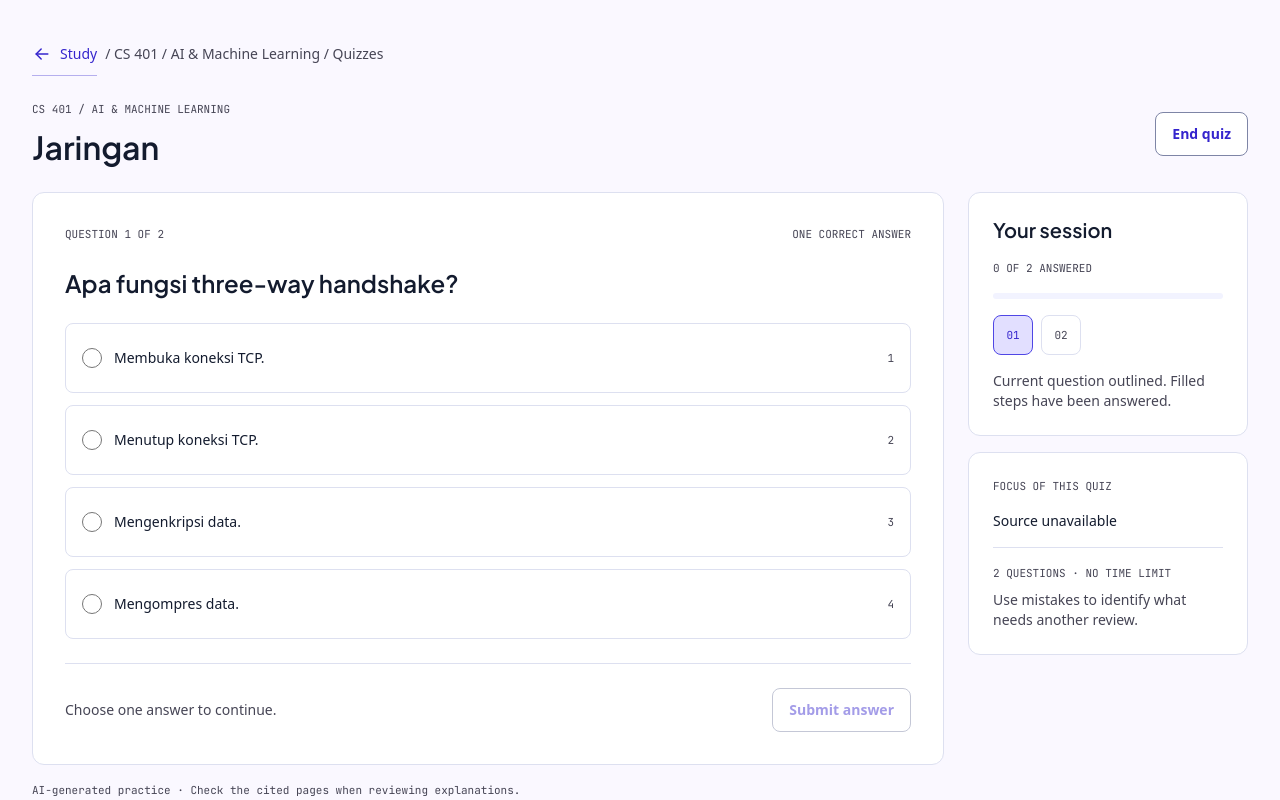
Test case: grading, per question kind › renders the score the server reported rather than recomputing it
Click the radio button labelled "Membuka koneksi TCP. 1" at [92, 358], box 82,348 -> 102,368
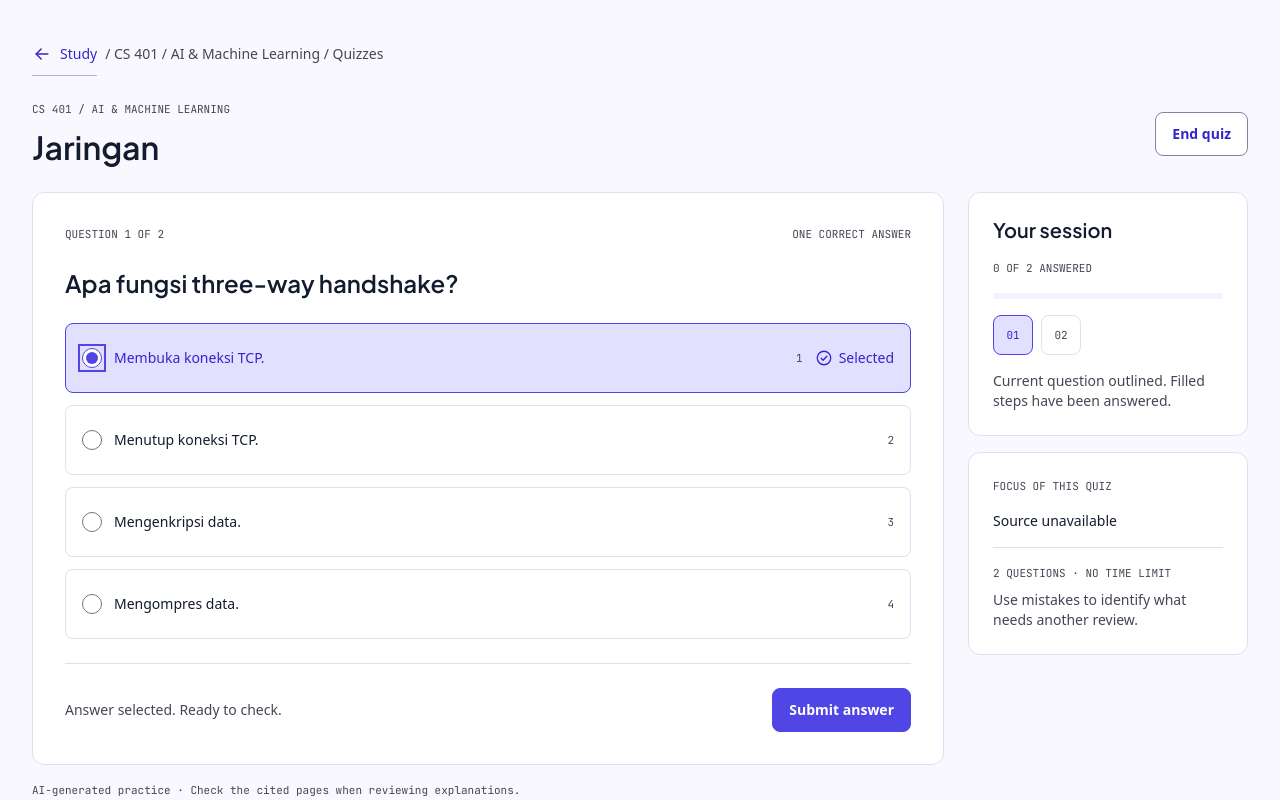
Click the button "Submit answer" at [842, 710], box 772,688 -> 911,732
(page scrolled)
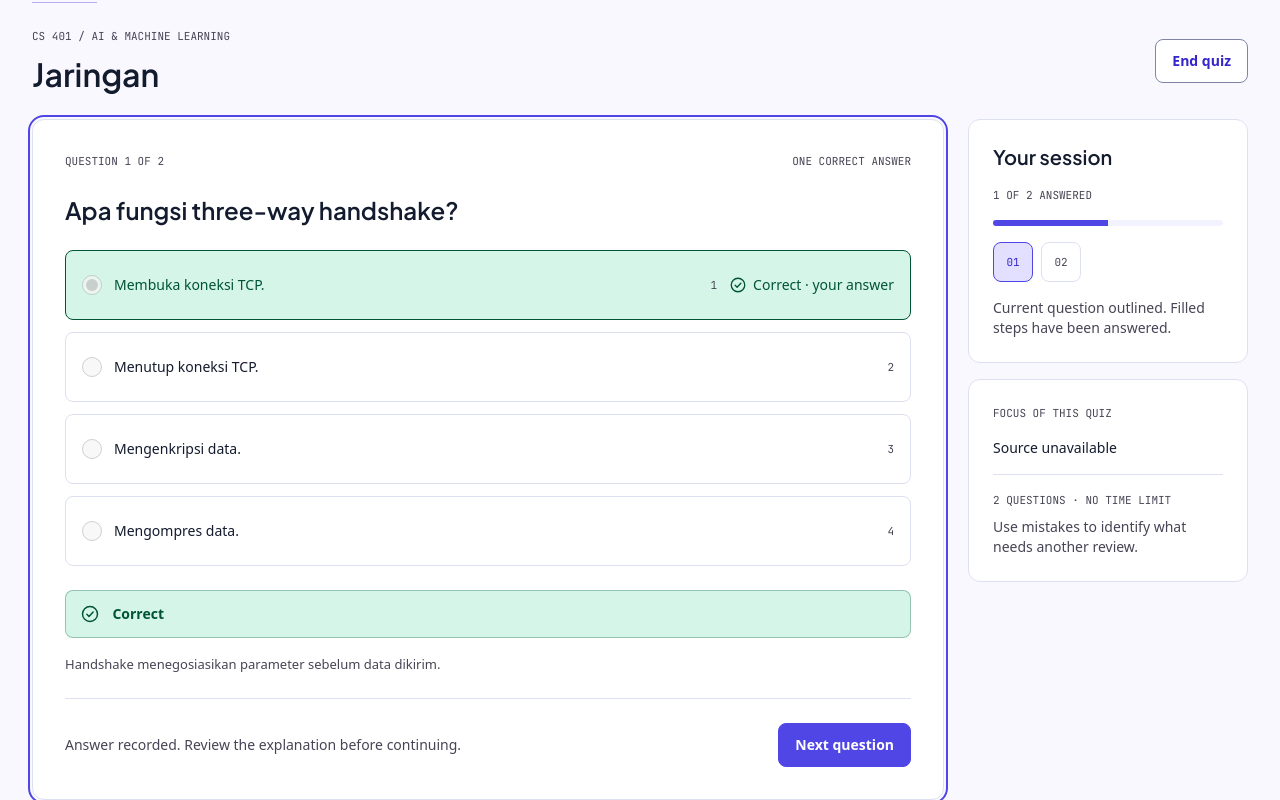
Click the button "Next question" at [845, 745], box 778,723 -> 911,767
(page scrolled)
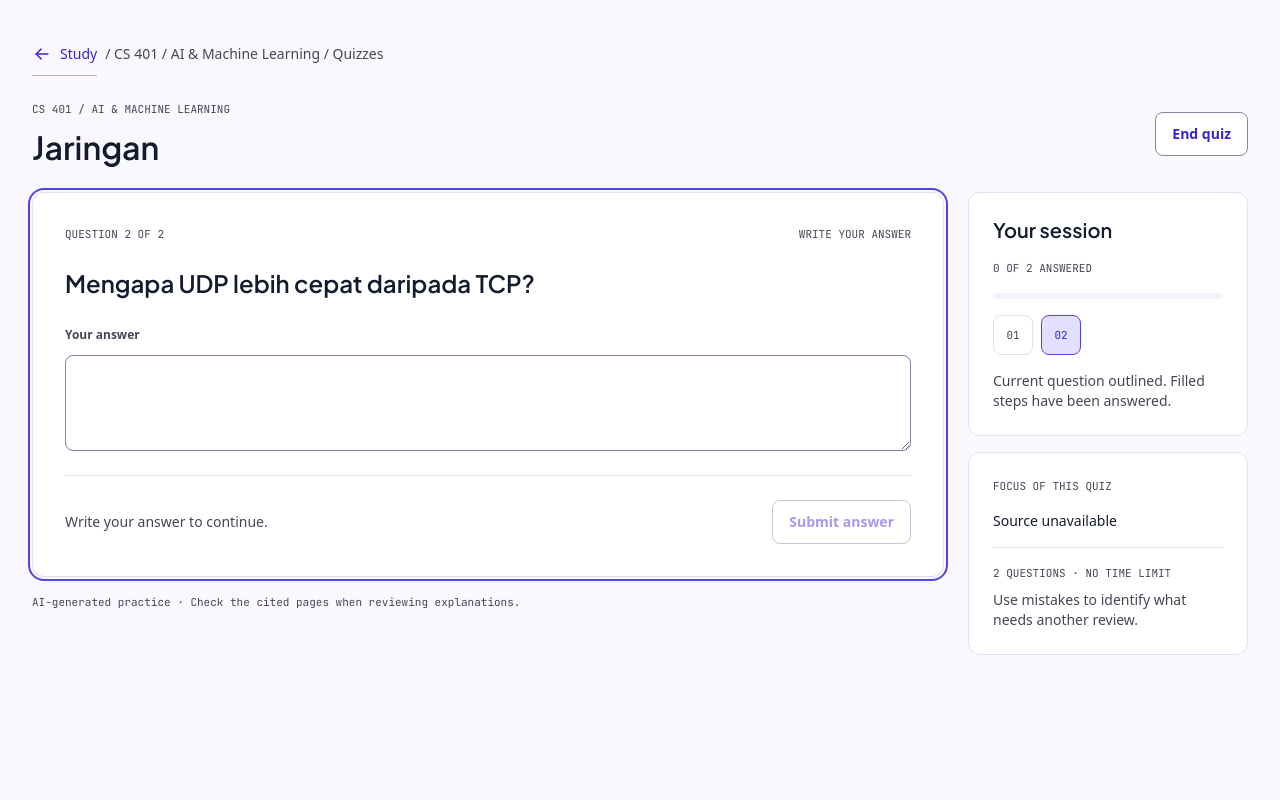
Type "Karena tidak ada handshake." into the text box labelled "Your answer" at [488, 403], box 65,355 -> 911,451
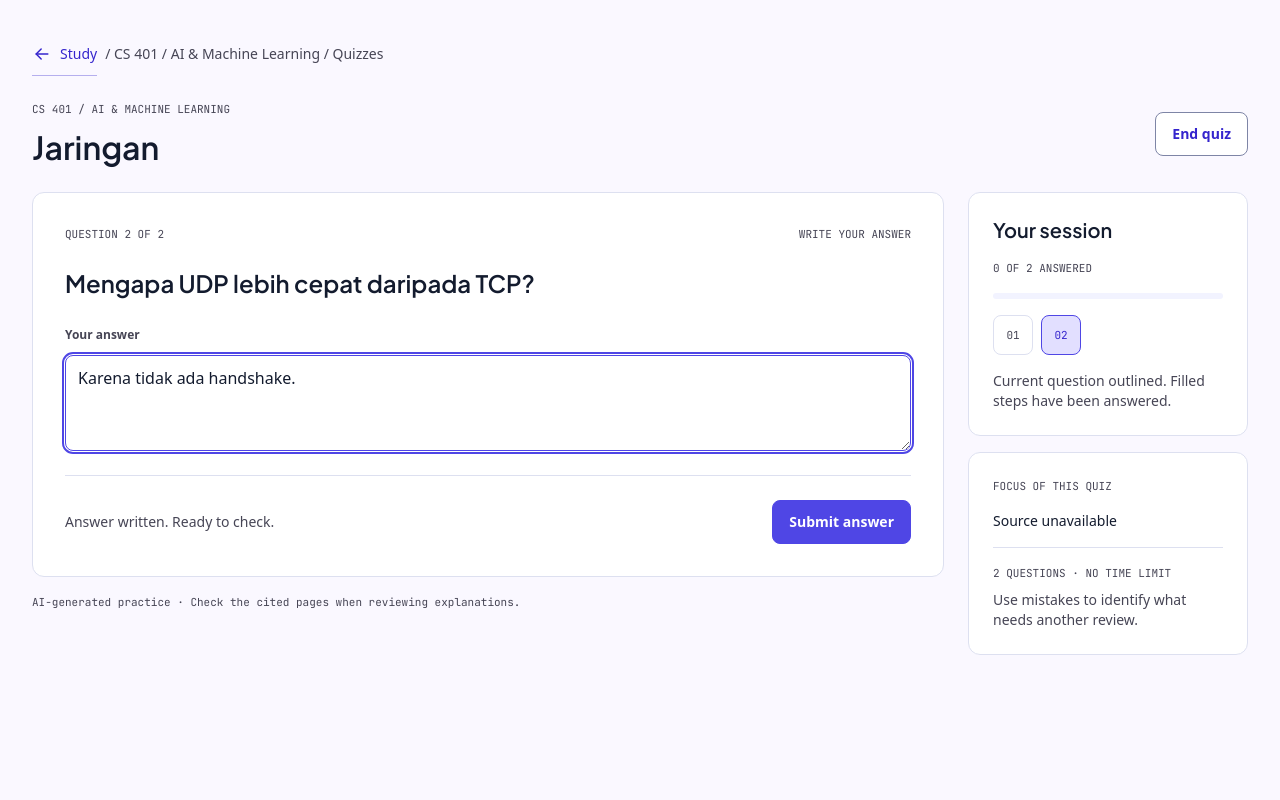
Click the button "Submit answer" at [842, 522], box 772,500 -> 911,544
(page scrolled)
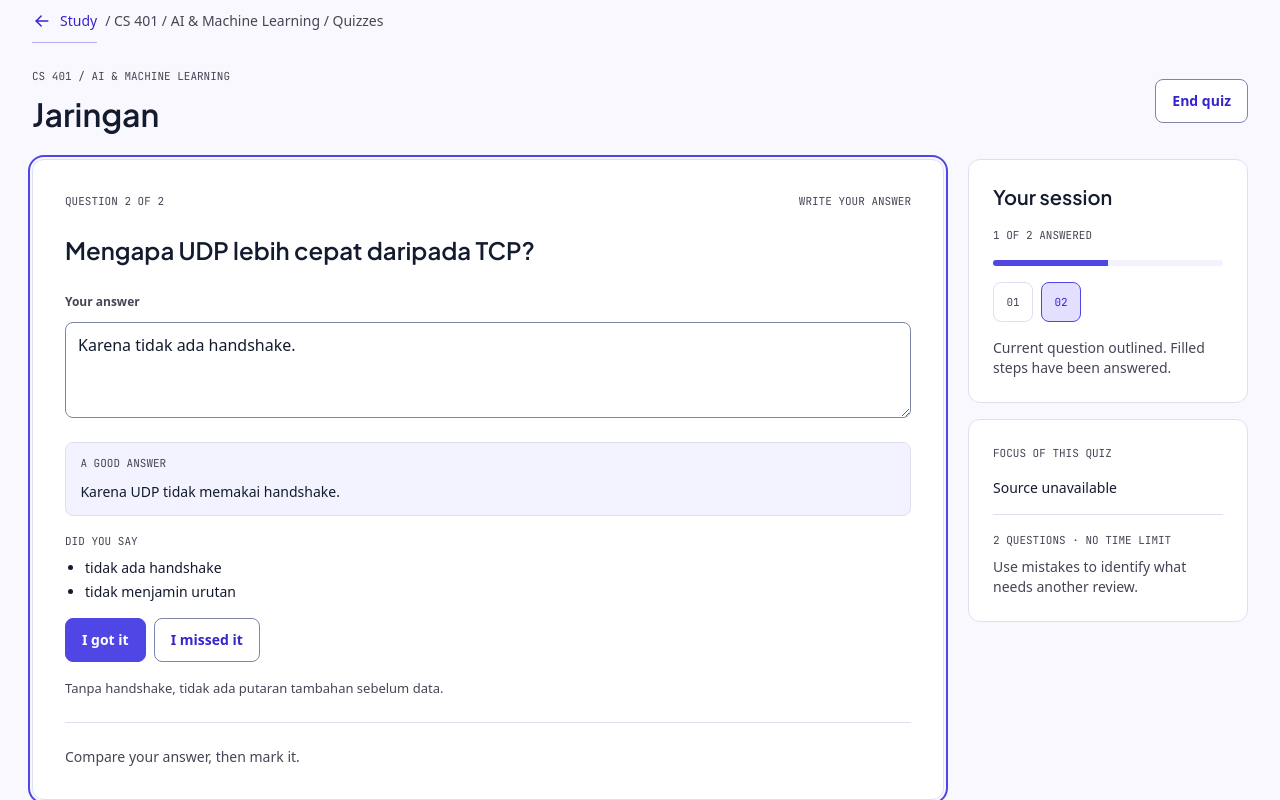
Click the button "I missed it" at [207, 640], box 154,618 -> 260,662
(page scrolled)
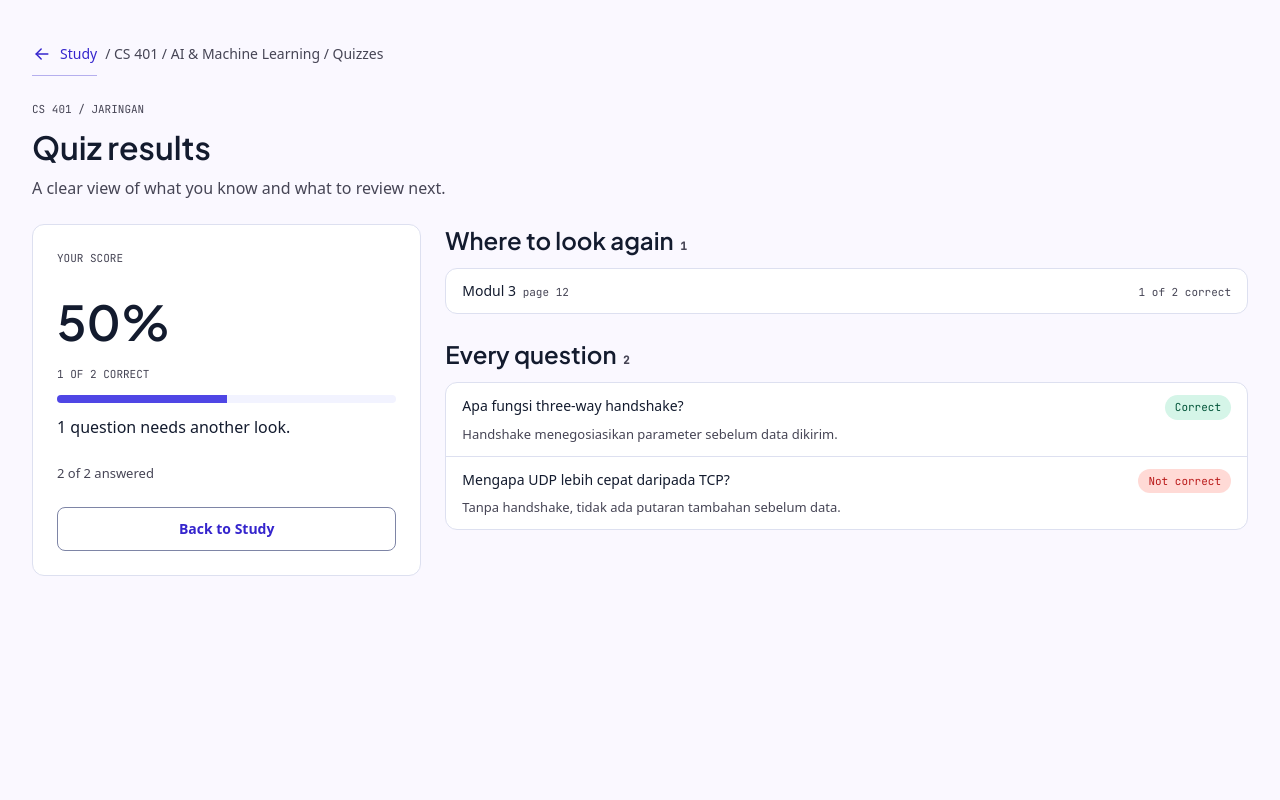
Check: the text "50%" is shown, box 57,291 -> 170,352
Check: the text "1 of 2 correct" is shown 2 times, box 57,367 -> 149,381; 1139,283 -> 1231,301
Check: the text "Modul 3" is shown, box 462,281 -> 516,300
